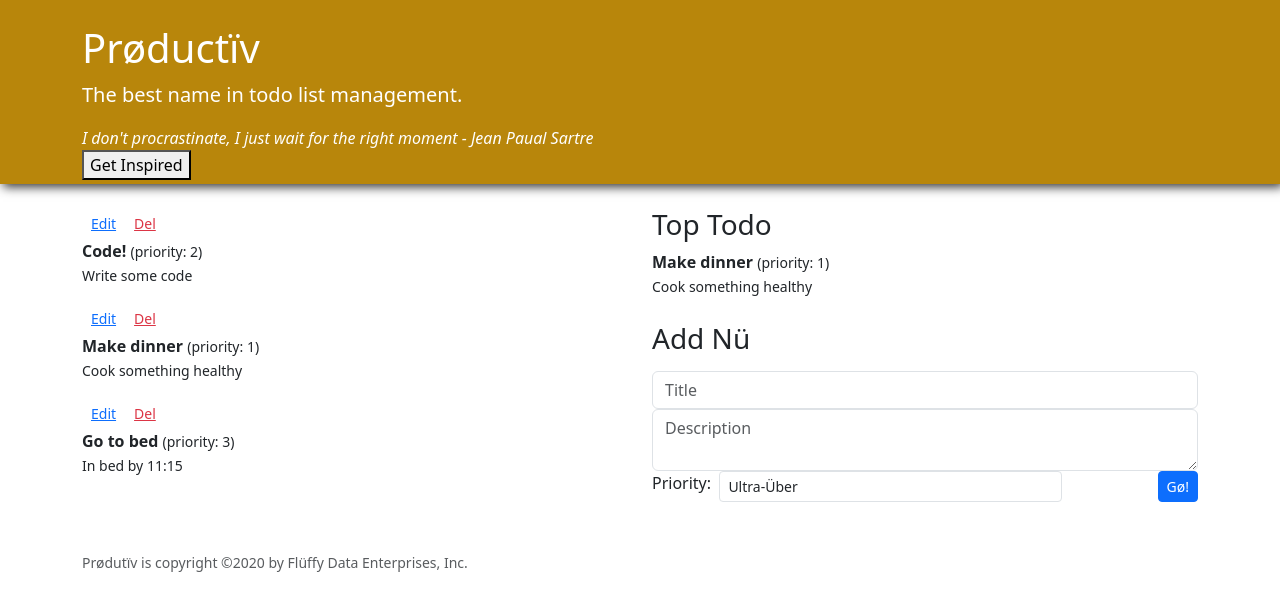
Test: productiv app › deletes todo
Expected: the text "Write some code" is shown, 82,266 -> 192,285
Click the 1st button "Del". click: (145, 224)
box: 125,208 -> 165,239
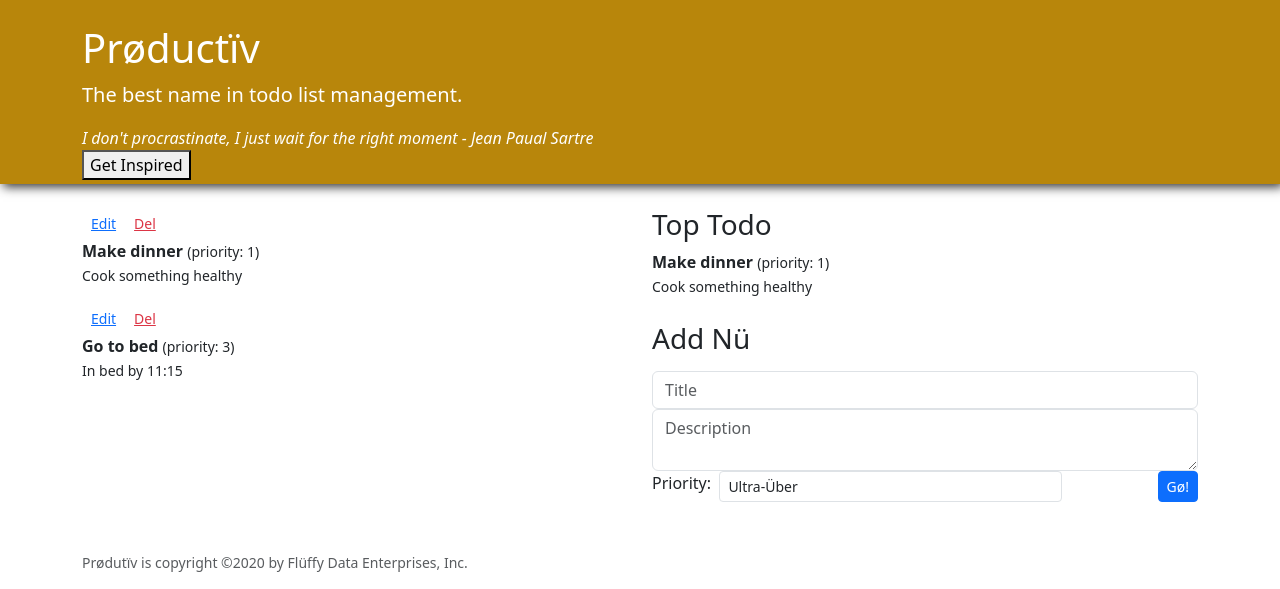
Expected: the text "Write some code" is gone
